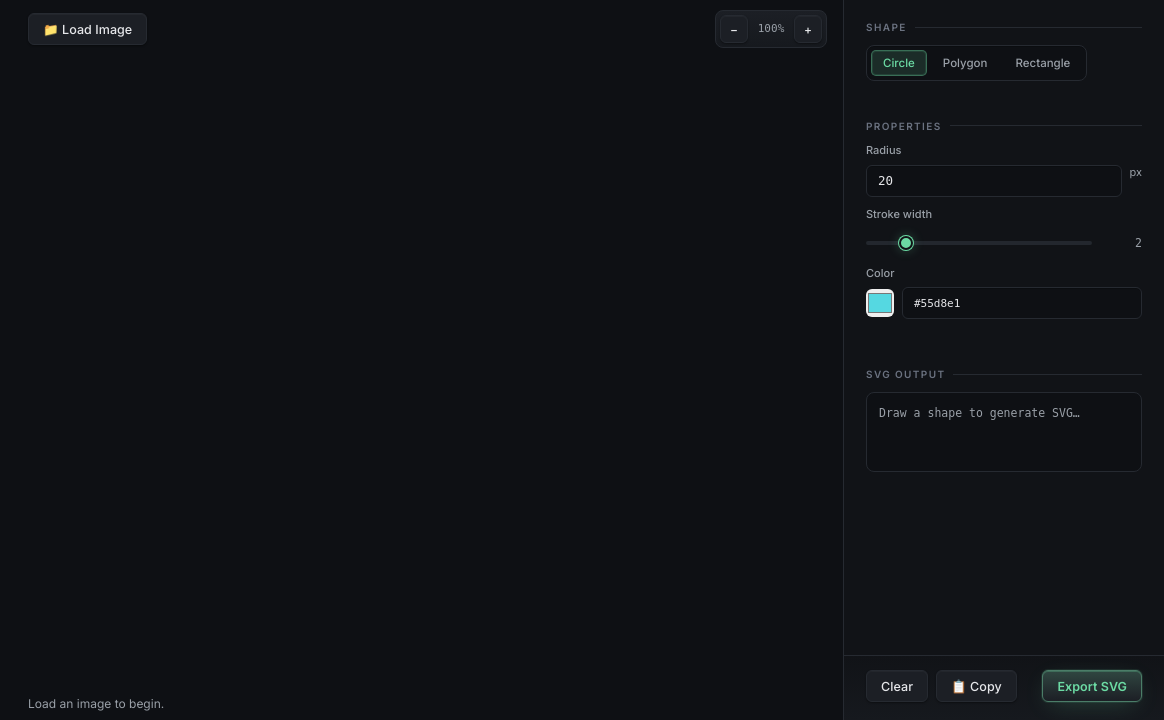
Test case: SvgGenerator › adjusts zoom when + is clicked
Click the button "+".
click(808, 29)  # box [794,15,822,43]
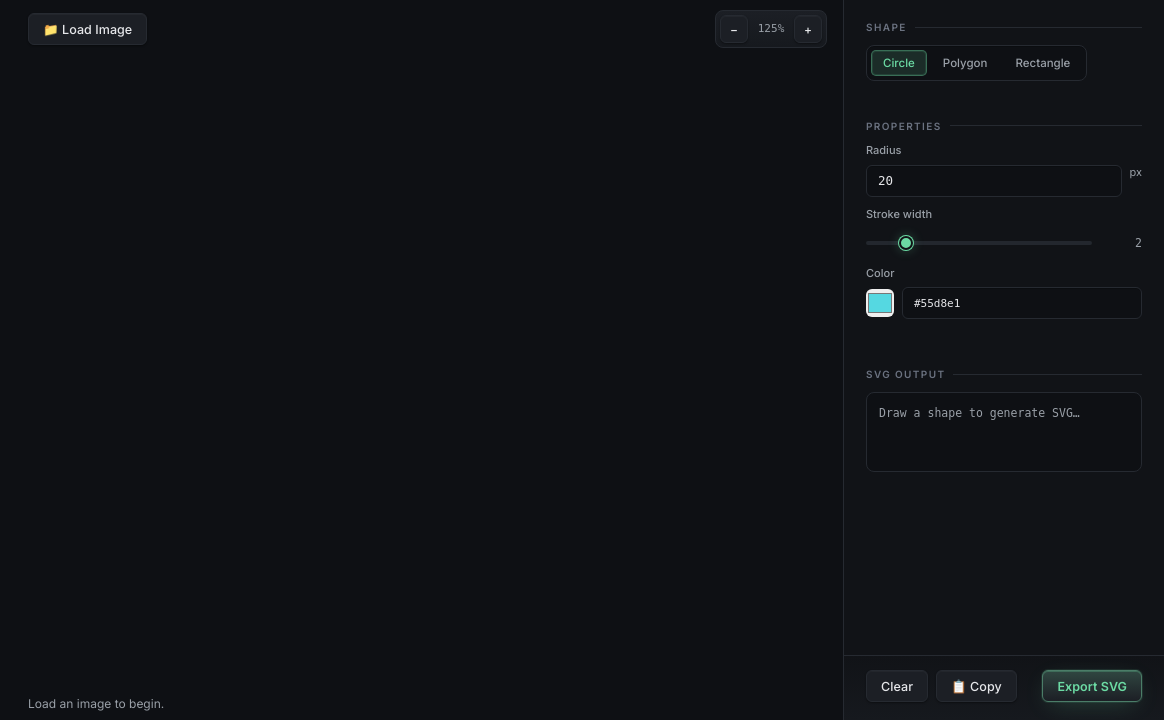
Now the text "125%" is shown, box [758,22,784,35]
